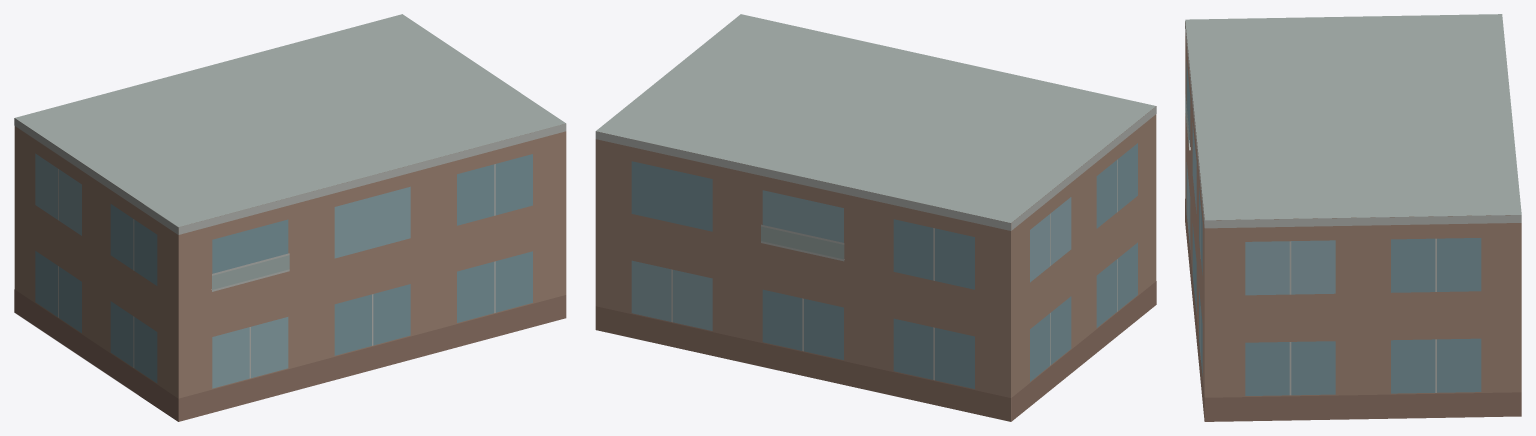
Rendered from survey-upis-32706510.glb.
The picture shows the model from 3 angles, left to right: view 1: azimuth 30°, elevation 25°; view 2: azimuth 150°, elevation 25°; view 3: azimuth 270°, elevation 25°; orthographic projection. The views are drawn at different scales.
Visible parts, largest first — view 1: survey-upis-32706510.tmp; view 2: survey-upis-32706510.tmp; view 3: survey-upis-32706510.tmp.
Boxes of the visible parts, x1,y1,x2,y2 form: survey-upis-32706510.tmp: (14, 14, 566, 421); survey-upis-32706510.tmp: (595, 14, 1156, 421); survey-upis-32706510.tmp: (1185, 14, 1521, 421).
Size of the model in its own units: 13.4 by 6.1 by 9.24.
